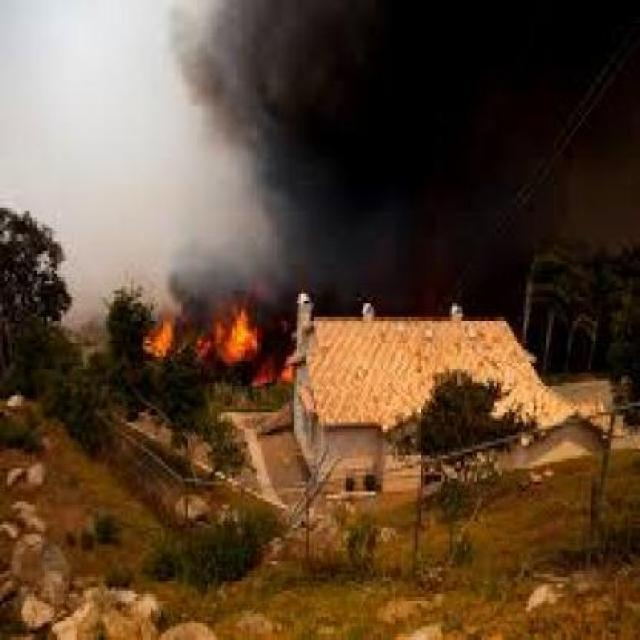Fire: (127, 272, 306, 390)
Smoke: (197, 0, 639, 318)
